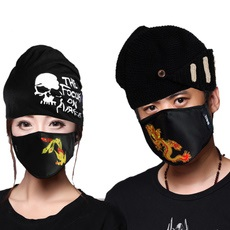face_mask: (135, 76, 207, 158), (10, 100, 76, 173)
